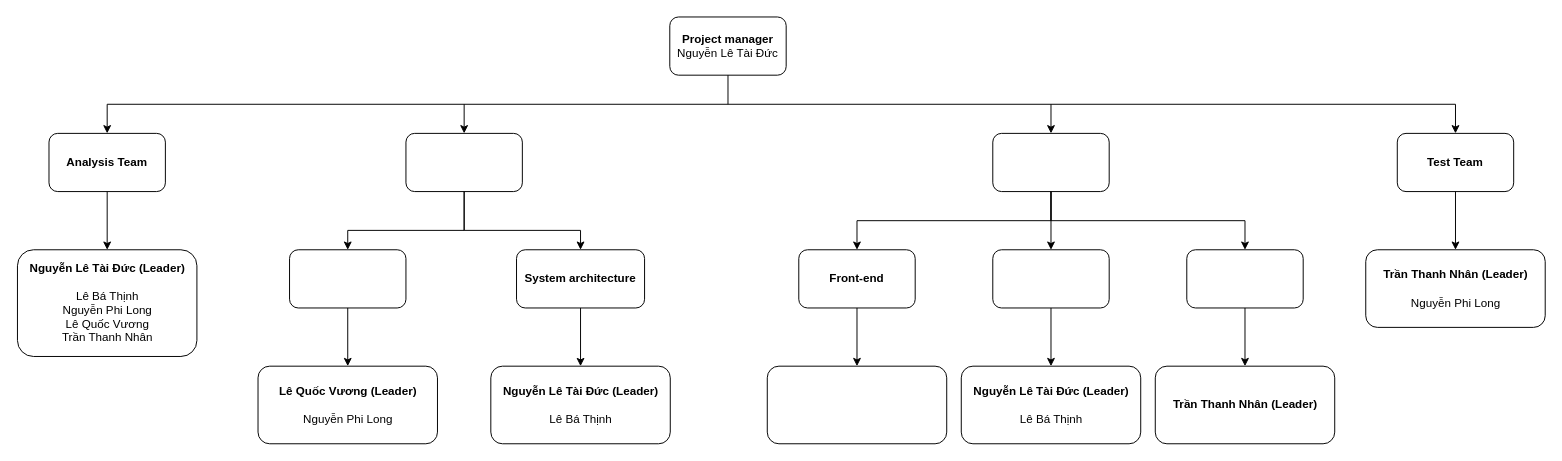
This 1562x461 diagram has some shape labels left out. Here are the shapes that lost their labels. From the top down, the centre of each, then its label:
(x=463, y=162): Design Team
(x=1050, y=162): Development team
(x=347, y=278): UI/UX
(x=1050, y=278): Back-end
(x=1244, y=278): AI
(x=856, y=404): Lê Quốc Vương (Leader) Nguyễn Phi Long Nguyễn Lê Tài Đức
